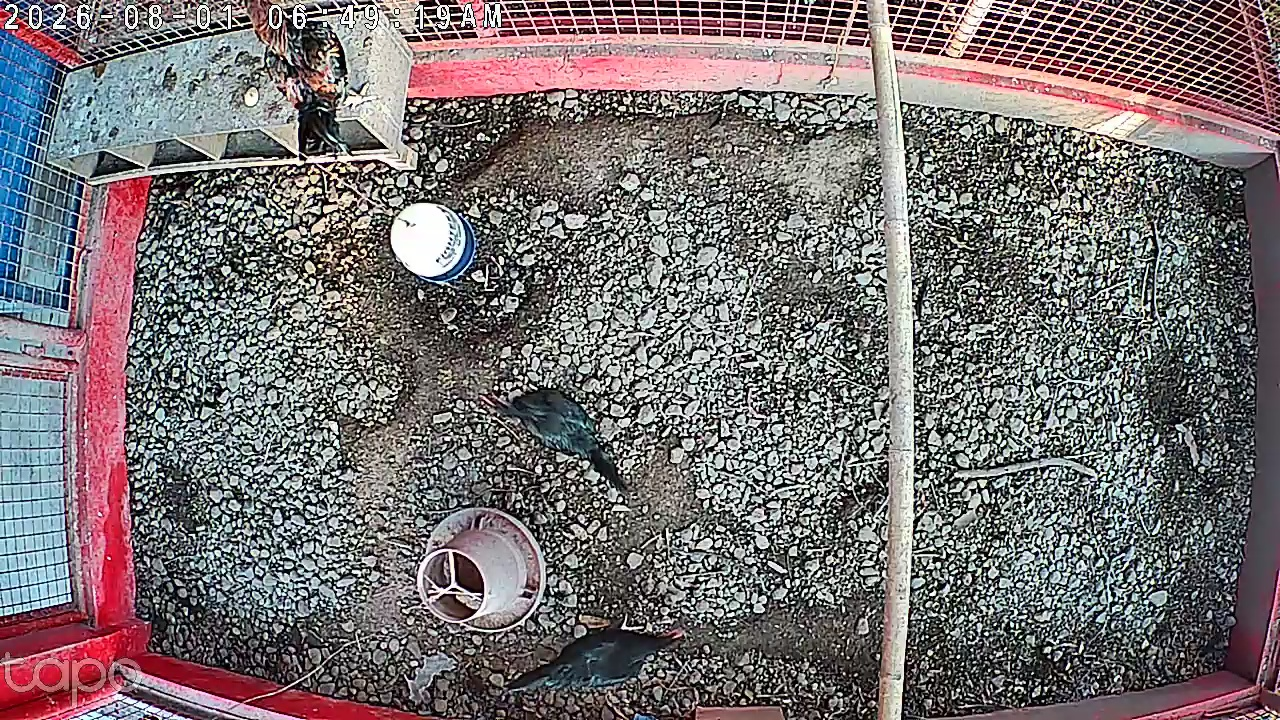Chicken: (498, 612, 690, 693), (483, 386, 631, 491)
Drinker: (386, 203, 481, 279)
Feeder: (410, 508, 553, 636)
Rooster: (246, 0, 353, 155)
